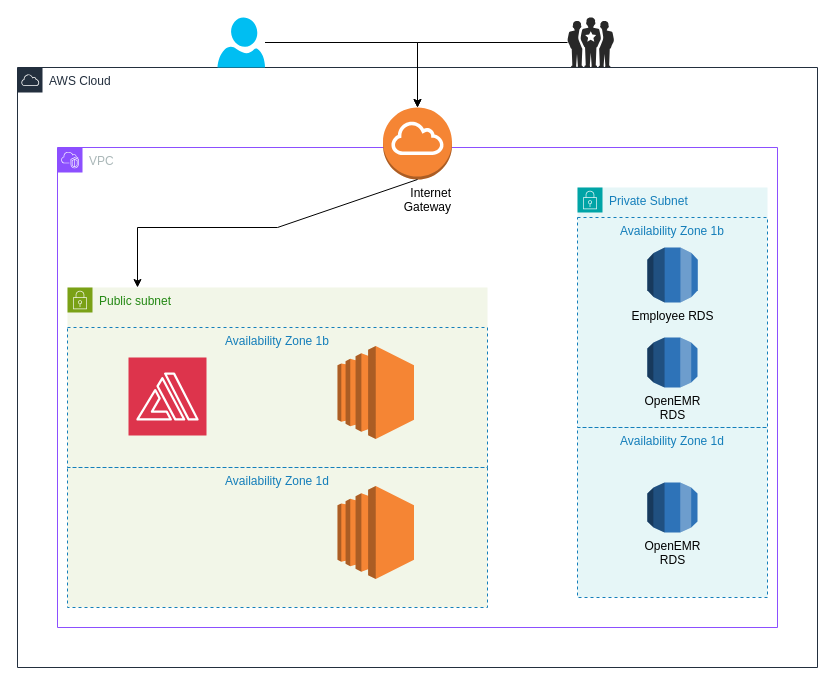
This 835x685 diagram has some shape labels left out. Each missing label, with the centre of its shape:
"Employees" goes at pixel 590 42.
"OpenEMR a" goes at pixel 375 392.
"OpenEMR b" goes at pixel 375 532.
"Patients" goes at pixel 240 42.
